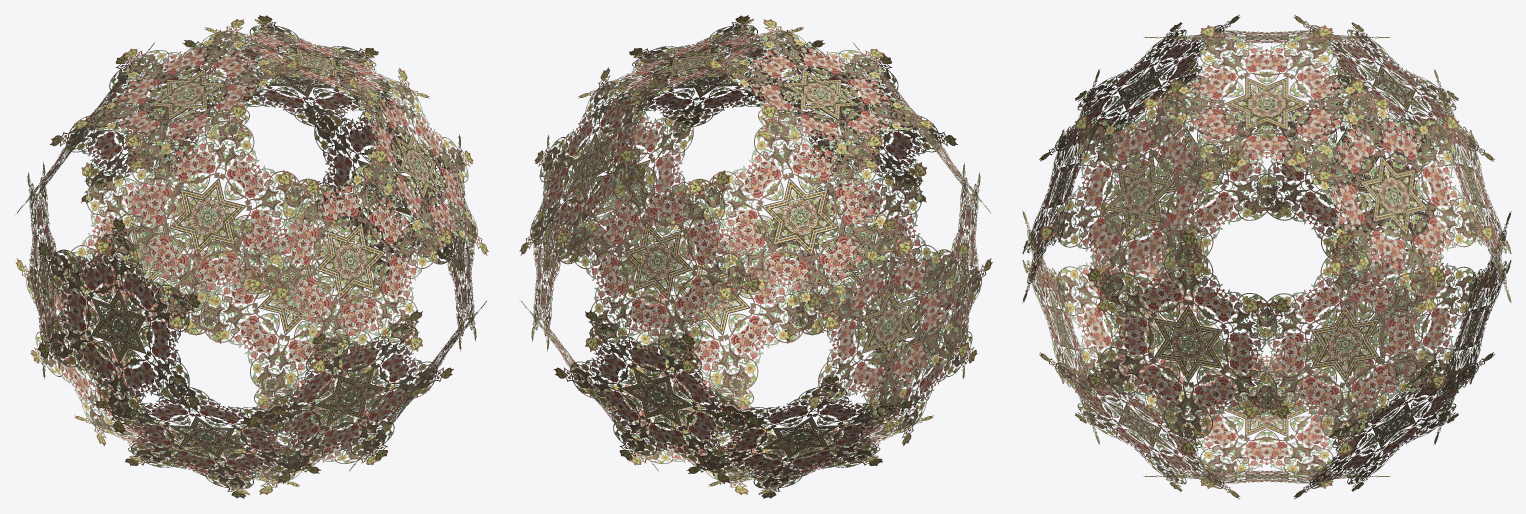
The model's file is IcositruncatedDodecadodecahedron8.gltf.
3 renders of one model, left to right at view 1: azimuth 30°, elevation 25°; view 2: azimuth 150°, elevation 25°; view 3: azimuth 270°, elevation 25°, orthographic. The views are drawn at different scales.
Parts seen in each view (by area): view 1: IcositruncatedDodecadodecahedron; view 2: IcositruncatedDodecadodecahedron; view 3: IcositruncatedDodecadodecahedron.
Part boxes in pixels (<box>): IcositruncatedDodecadodecahedron: <box>15,15,488,498</box>; IcositruncatedDodecadodecahedron: <box>519,15,992,498</box>; IcositruncatedDodecadodecahedron: <box>1022,14,1511,499</box>.
Size of the model in its own units: 3.85 by 3.85 by 3.85.
1 material, 1 textured.
